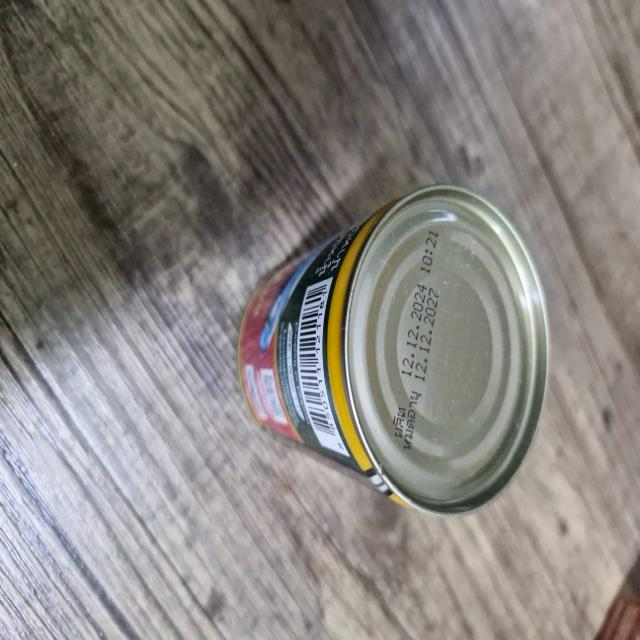can: (242, 188, 547, 512)
